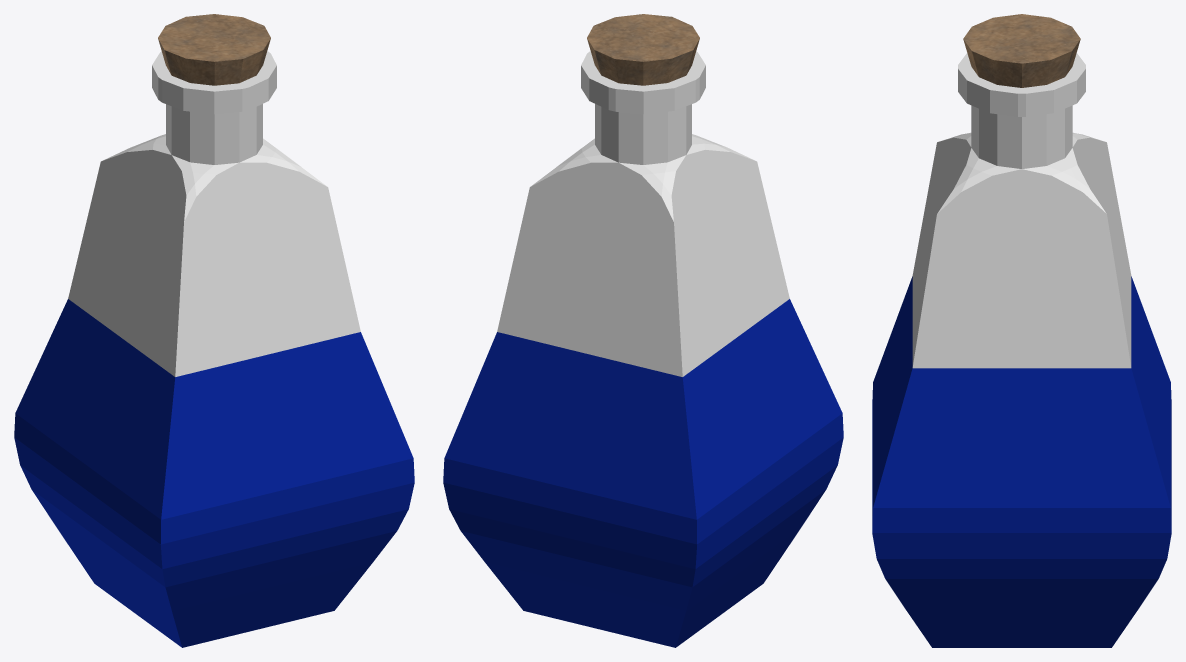
The model's file is ManaPotion.fbx.
The picture shows the model from 3 angles, left to right: view 1: azimuth 30°, elevation 25°; view 2: azimuth 150°, elevation 25°; view 3: azimuth 270°, elevation 25°; orthographic projection. The views are drawn at different scales.
Visible parts, largest first — view 1: ManaPotion; view 2: ManaPotion; view 3: ManaPotion.
Part boxes in pixels (<box>): ManaPotion: <box>14,14,414,647</box>; ManaPotion: <box>443,14,843,647</box>; ManaPotion: <box>872,14,1171,647</box>.
Size of the model in its own units: 13.5 by 28.42 by 13.5.
